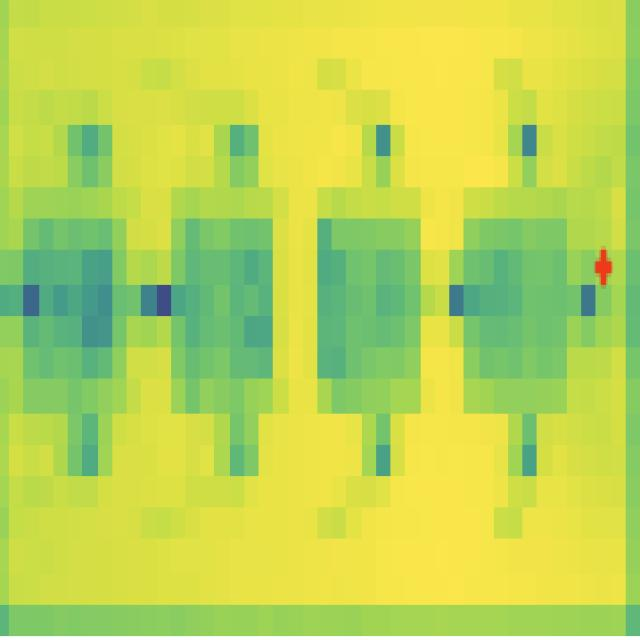Concrete: (453, 152, 578, 418)
Glass: (305, 170, 430, 438)
Metal: (17, 192, 137, 427)
Wood: (162, 166, 288, 422)
